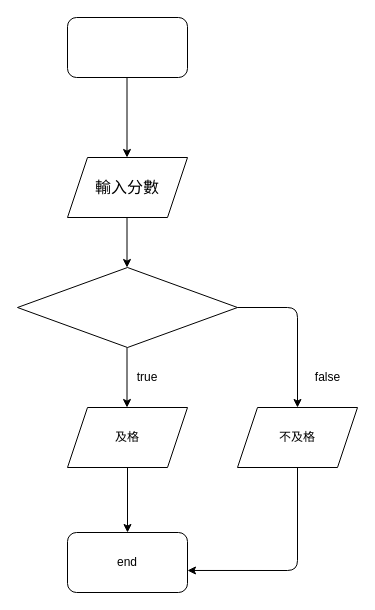
Image size: 375x610. Some labels were removed from this diagram. The centre of each missing label's shape, as x and y in pixels:
"score>=60" goes at point 127,307.
"開始" goes at point 127,47.
